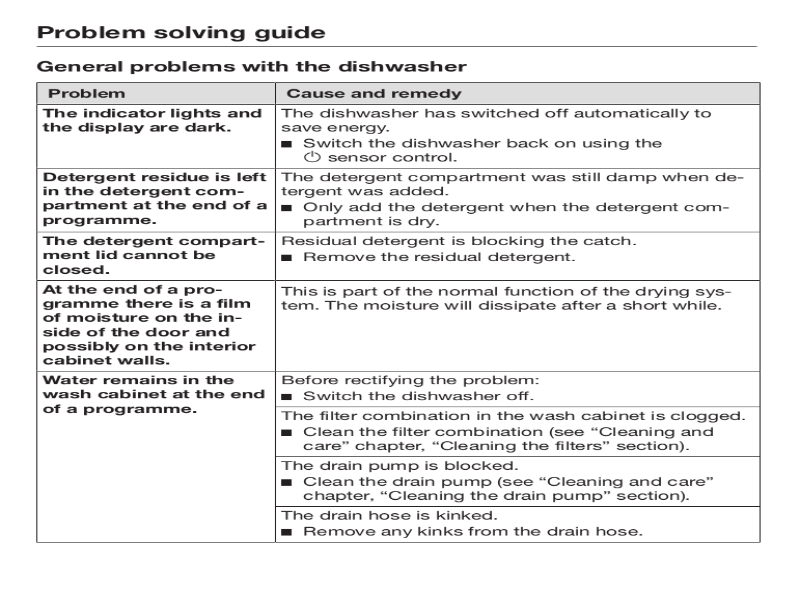border: (25, 76, 770, 549)
cell: (278, 169, 749, 228), (279, 105, 719, 165), (40, 283, 272, 367), (277, 459, 719, 502), (278, 283, 751, 316), (278, 409, 623, 454), (41, 170, 272, 227), (278, 235, 643, 267), (277, 509, 648, 538), (40, 373, 268, 416), (40, 234, 273, 276), (278, 373, 546, 405), (40, 105, 269, 137), (283, 86, 467, 101), (43, 87, 131, 101)
